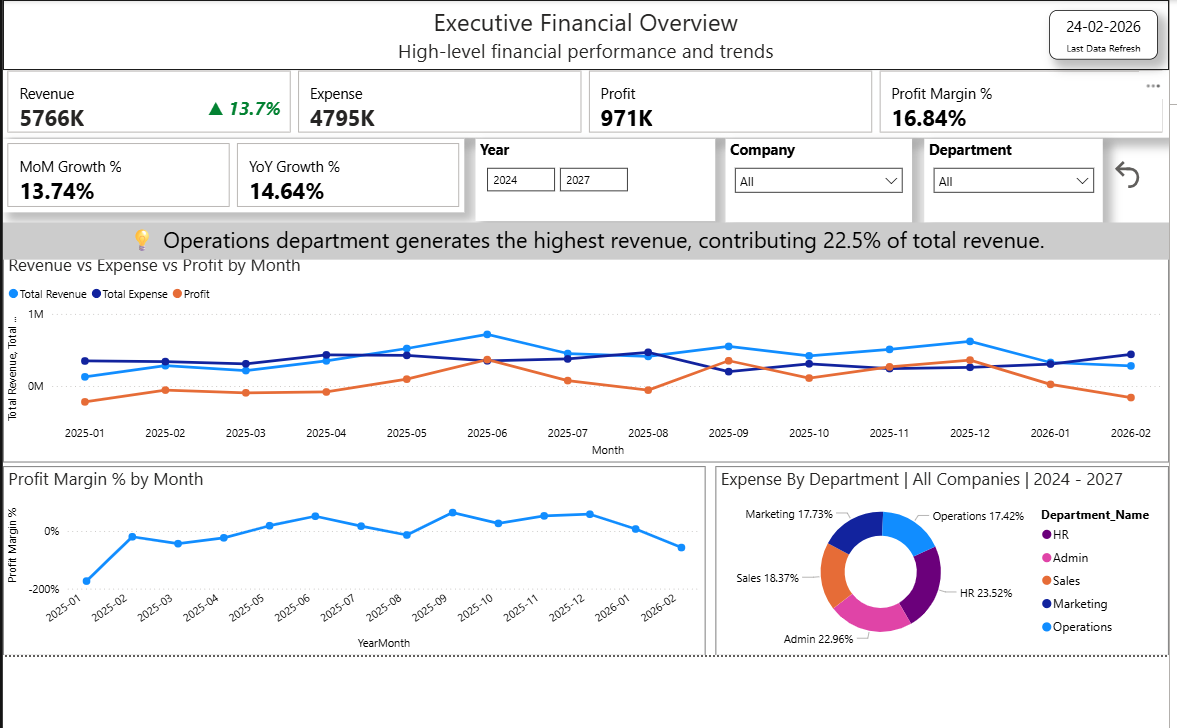

What the dashboard file says about the page in this screenshot:
{"tool":"powerbi","page":{"name":"Executive Financial Overview","canvas":[1280,720],"ordinal":0},"visuals":[{"type":"cardVisual","title":"T","fields":{"Data":["Measure.Total Revenue","Measure.Total Expense","Measure.Profit","Measure.Profit Margin %"]},"box":[0,72.7,1280.3,78.2],"z":0},{"type":"lineChart","title":"Revenue vs Expense vs Profit by Month","fields":{"Category":["Dim_Date.YearMonth"],"Y":["Measure.Total Revenue","Measure.Total Expense","Measure.Profit"]},"box":[0,277.2,1280,230.5],"z":1000},{"type":"textbox","box":[0,0,1280,77],"z":2000},{"type":"cardVisual","fields":{"Data":["Measure.MoM Growth %","Measure.YoY Growth %"]},"box":[0,152.3,506.3,81],"z":3000},{"type":"donutChart","fields":{"Category":["Dim_Department.Department_Name"],"Y":["Measure.Total Expense"]},"box":[782.5,512.5,497.6,207.7],"z":4000},{"type":"slicer","title":"Year","fields":{"Values":["Dim_Date.Year"]},"box":[518.7,152.3,263.5,90.6],"z":5000},{"type":"slicer","title":"Company","fields":{"Values":["Dim_Company.Company_Name"]},"box":[793.1,152.3,204.5,91.9],"z":6000},{"type":"slicer","title":"Department","fields":{"Values":["Dim_Department.Department_Name"]},"box":[1011.3,152.3,196.2,91.9],"z":7000},{"type":"lineChart","title":"Profit Margin % by Month","fields":{"Category":["Dim_Date.YearMonth"],"Y":["Measure.Profit Margin %"]},"box":[0,512.5,771.3,207.7],"z":8000},{"type":"card","fields":{"Values":["Measure.Last Data Refresh"]},"box":[1148.2,11.2,119.4,54.7],"z":9000},{"type":"card","fields":{"Values":["Measure.Executive Insights"]},"box":[0,244.3,1280,41.2],"z":10000},{"type":"actionButton","box":[1214.4,171.5,53.5,39.8],"z":11000}]}

Visuals, with their boxes on the page's 1280x720 design canvas (x1, y1, x2, y2). These are canvas units, not pixel positions in the 1177x728 screenshot, which may show the page scaled, cropped or inside an application window:
"T" cardVisual: {"x1": 0, "y1": 73, "x2": 1280, "y2": 151}
"Revenue vs Expense vs Profit by Month" lineChart: {"x1": 0, "y1": 277, "x2": 1280, "y2": 508}
textbox: {"x1": 0, "y1": 0, "x2": 1280, "y2": 77}
cardVisual - Measure.MoM Growth % x Measure.YoY Growth %: {"x1": 0, "y1": 152, "x2": 506, "y2": 233}
donutChart - Dim_Department.Department_Name x Measure.Total Expense: {"x1": 782, "y1": 512, "x2": 1280, "y2": 720}
"Year" slicer: {"x1": 519, "y1": 152, "x2": 782, "y2": 243}
"Company" slicer: {"x1": 793, "y1": 152, "x2": 998, "y2": 244}
"Department" slicer: {"x1": 1011, "y1": 152, "x2": 1208, "y2": 244}
"Profit Margin % by Month" lineChart: {"x1": 0, "y1": 512, "x2": 771, "y2": 720}
card - Measure.Last Data Refresh: {"x1": 1148, "y1": 11, "x2": 1268, "y2": 66}
card - Measure.Executive Insights: {"x1": 0, "y1": 244, "x2": 1280, "y2": 286}
actionButton: {"x1": 1214, "y1": 172, "x2": 1268, "y2": 211}
